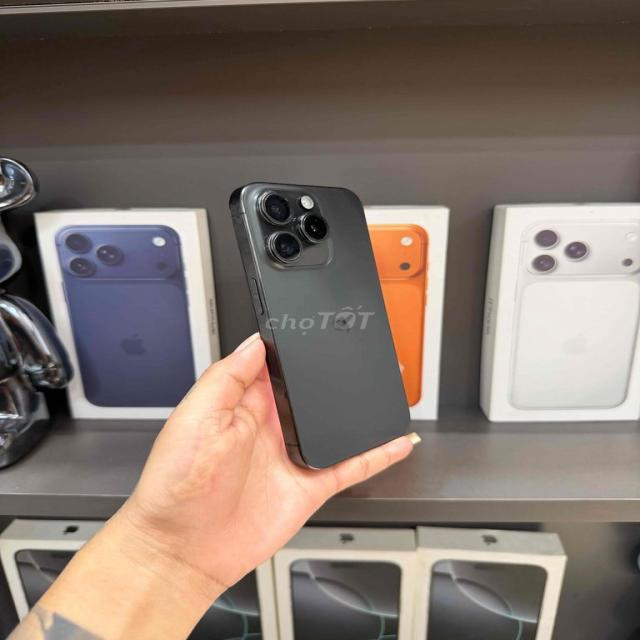scratch: (228, 197, 252, 254)
